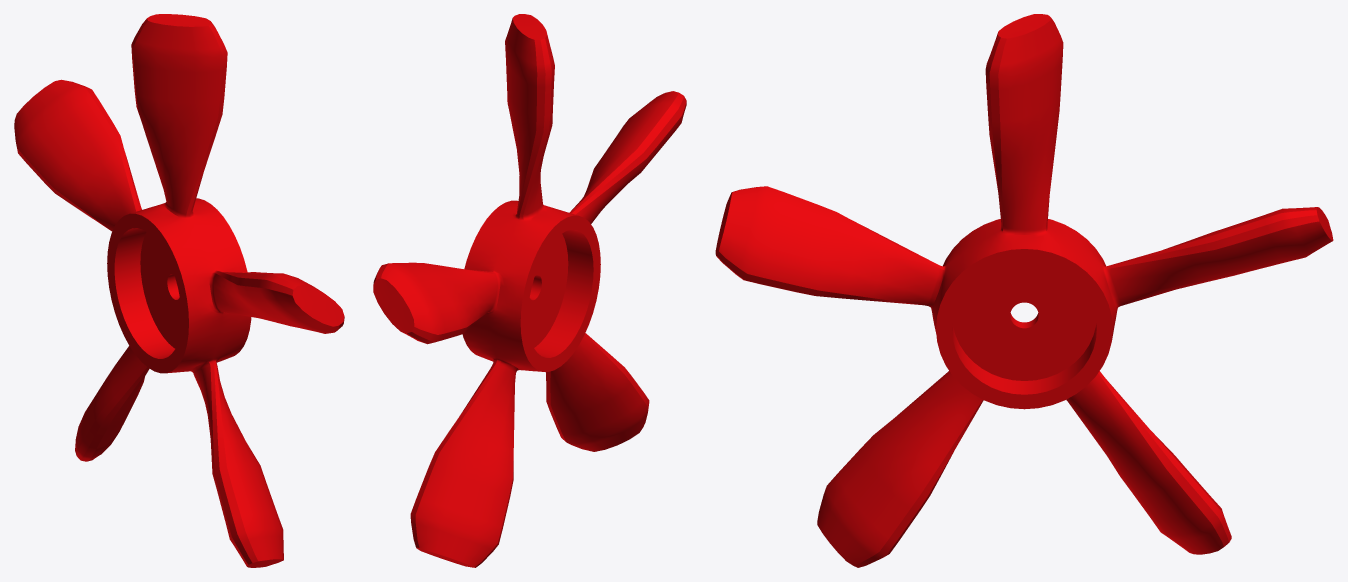
File: propeller.glb
3 views of the same model, side by side, from view 1: azimuth 30°, elevation 25°; view 2: azimuth 150°, elevation 25°; view 3: azimuth 270°, elevation 25° (orthographic). The views are drawn at different scales.
Parts seen in each view (by area): view 1: Cylinder; view 2: Cylinder; view 3: Cylinder.
Part boxes in pixels (<box>): Cylinder: <box>14,14,344,567</box>; Cylinder: <box>373,14,686,567</box>; Cylinder: <box>715,14,1333,567</box>.
Size of the model in its own units: 90.62 by 622 by 654.
